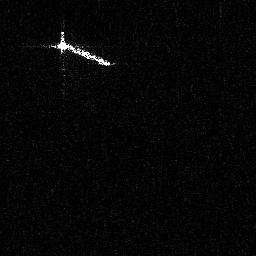ship: (24, 21, 117, 68)
